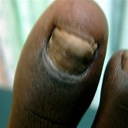Nail Fungal Infection: (45, 25, 102, 66)
